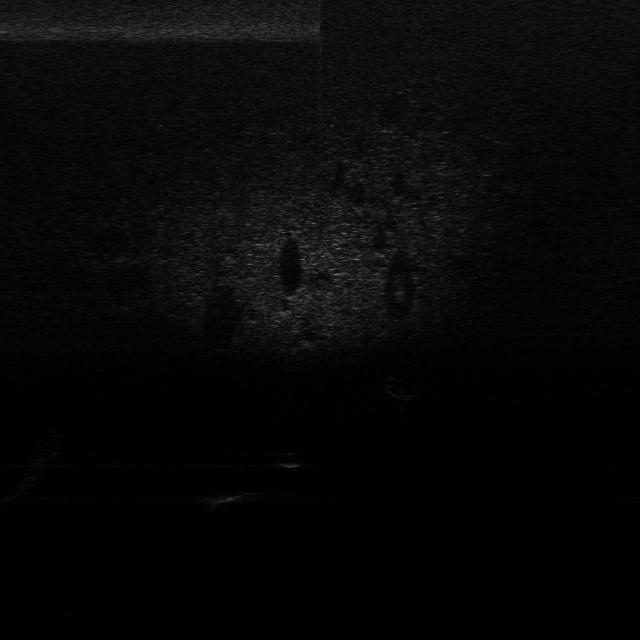ball: (276, 449, 303, 471)
square cage: (197, 487, 254, 507)
tyre: (382, 377, 421, 403)
